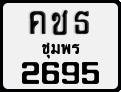letters: (41, 61, 60, 84), (82, 61, 100, 85), (52, 9, 68, 35), (74, 10, 90, 35), (62, 62, 80, 84), (22, 61, 39, 84), (30, 11, 46, 35)
province: (42, 42, 80, 58)
